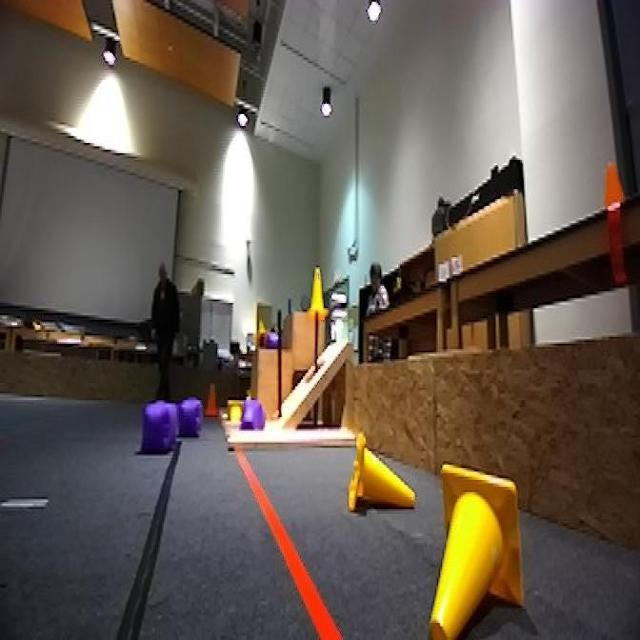frc_cone: (429, 462, 526, 638), (342, 429, 417, 524), (308, 266, 330, 316), (225, 402, 248, 427)
frc_cube: (139, 403, 176, 451), (177, 397, 203, 442), (240, 398, 262, 428), (262, 330, 282, 347)
